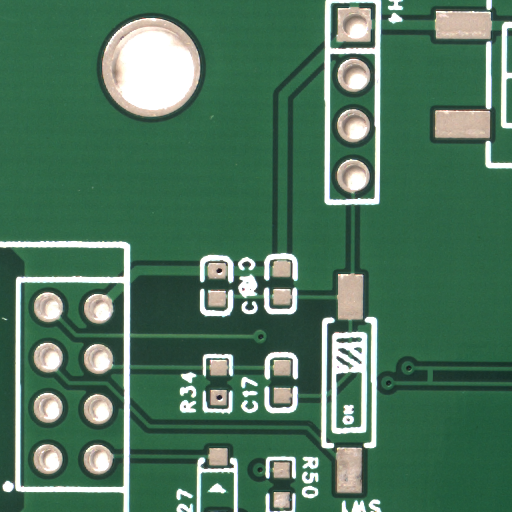Short: (429, 375, 439, 396)
